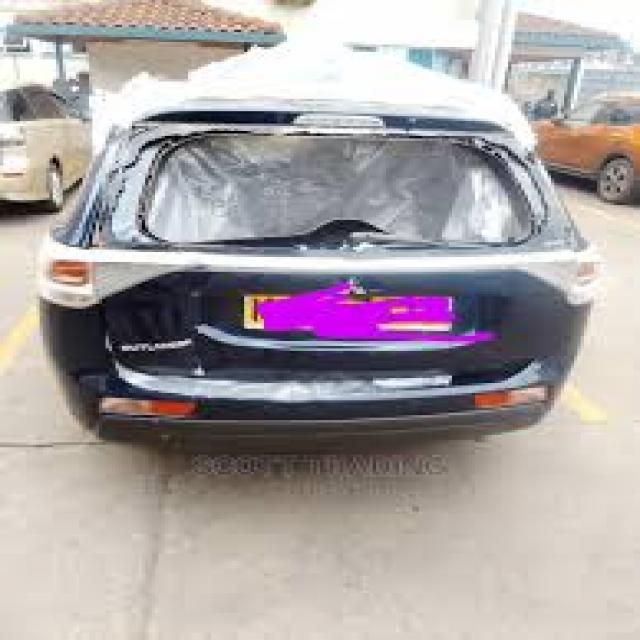damaged-rear-window: (122, 126, 563, 250)
